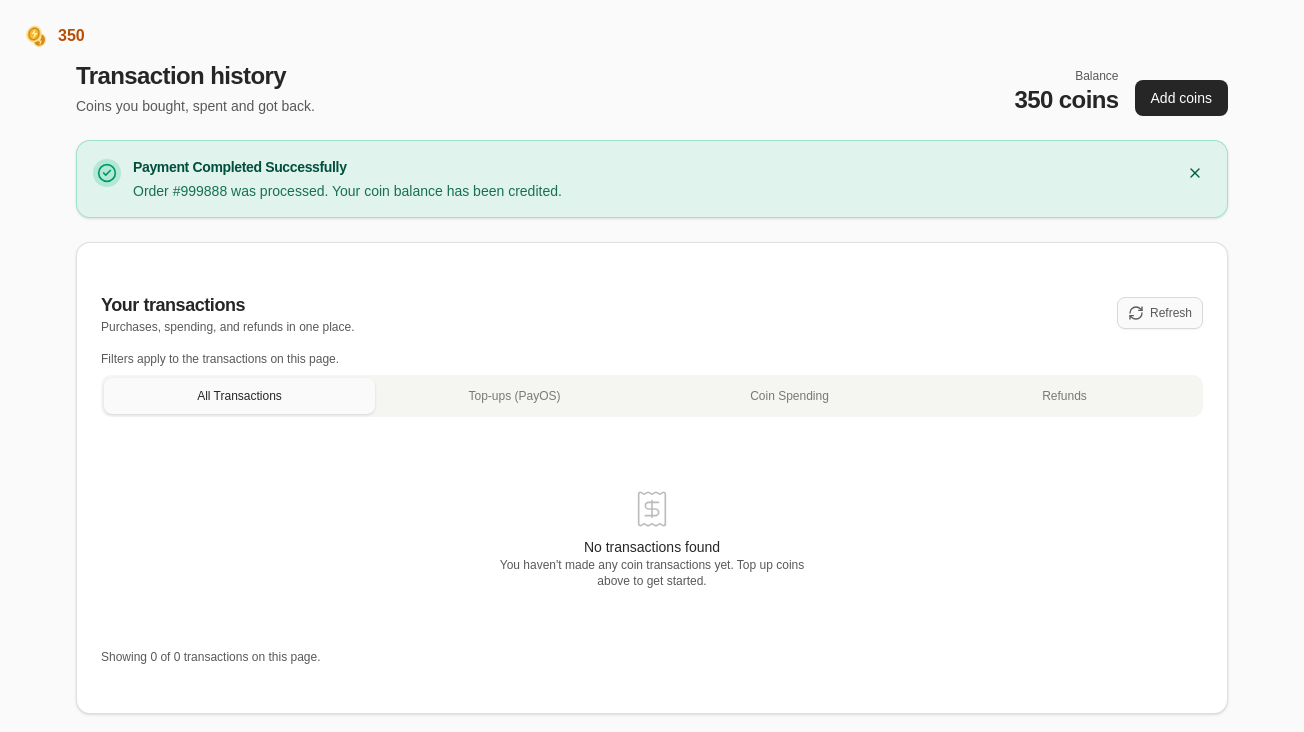
Test: BillingOverview › renders payment success only after backend verification
The width and height of the screenshot is (1304, 732).
Expected: the heading "Payment Completed Successfully" is shown, [133,159,347,175]
Expected: the text "Order #999888 was processed. Your coin balance has been credited." is shown, [133,183,562,199]
Step 1. Click the button named "Dismiss payment notification" → (1195, 173), box [1179,157,1211,189]
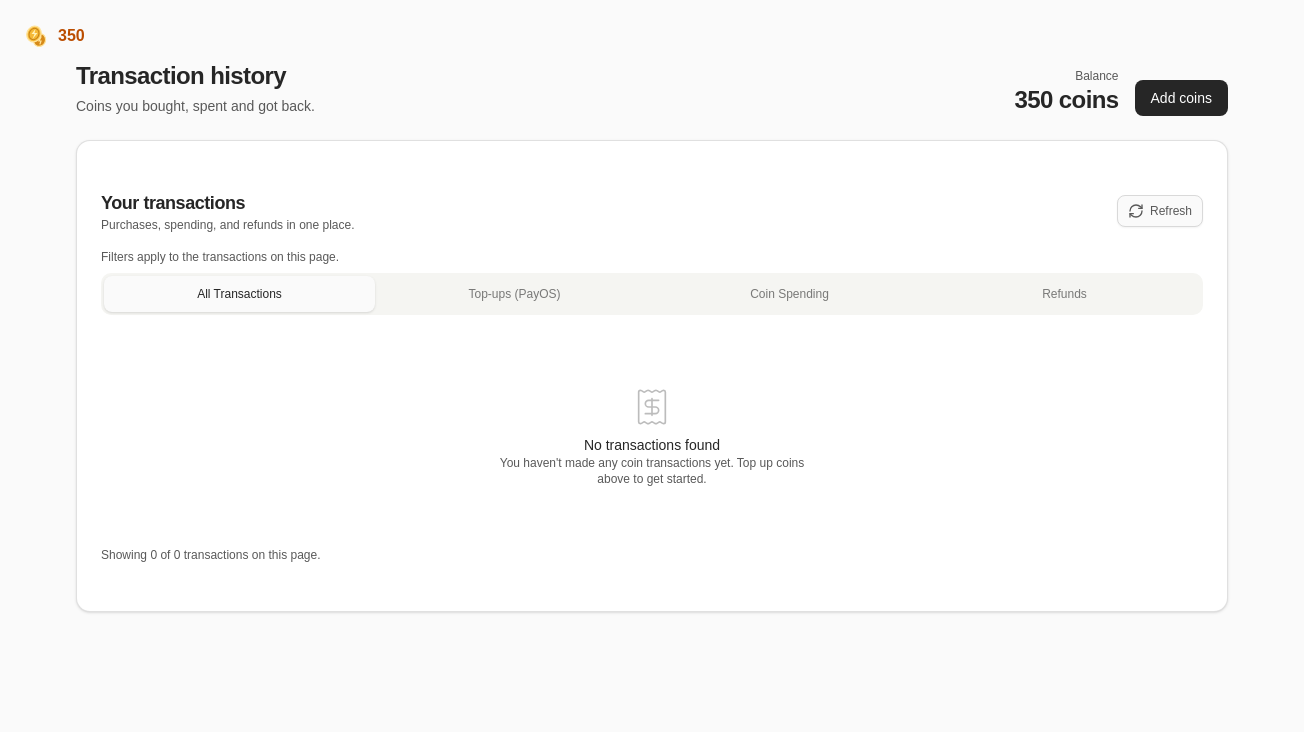
Result: the heading "Payment Completed Successfully" is gone
